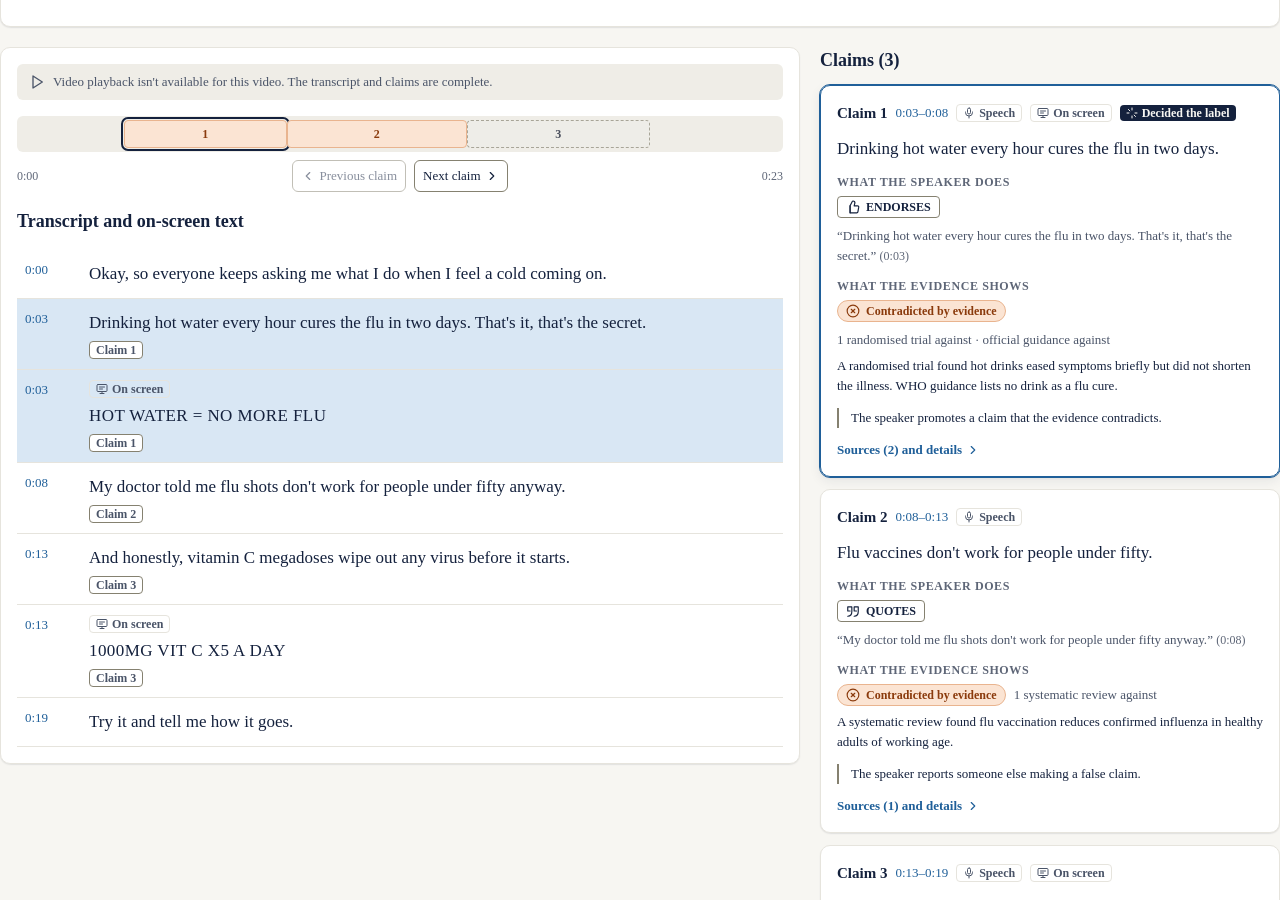
Test: ClaimDrawer › opens on the sources that match the verdict and can switch
The width and height of the screenshot is (1280, 900).
(page scrolled)
Click the button "Sources (2) and details" at (909, 450), box top-left (837, 440), bottom-right (980, 460)
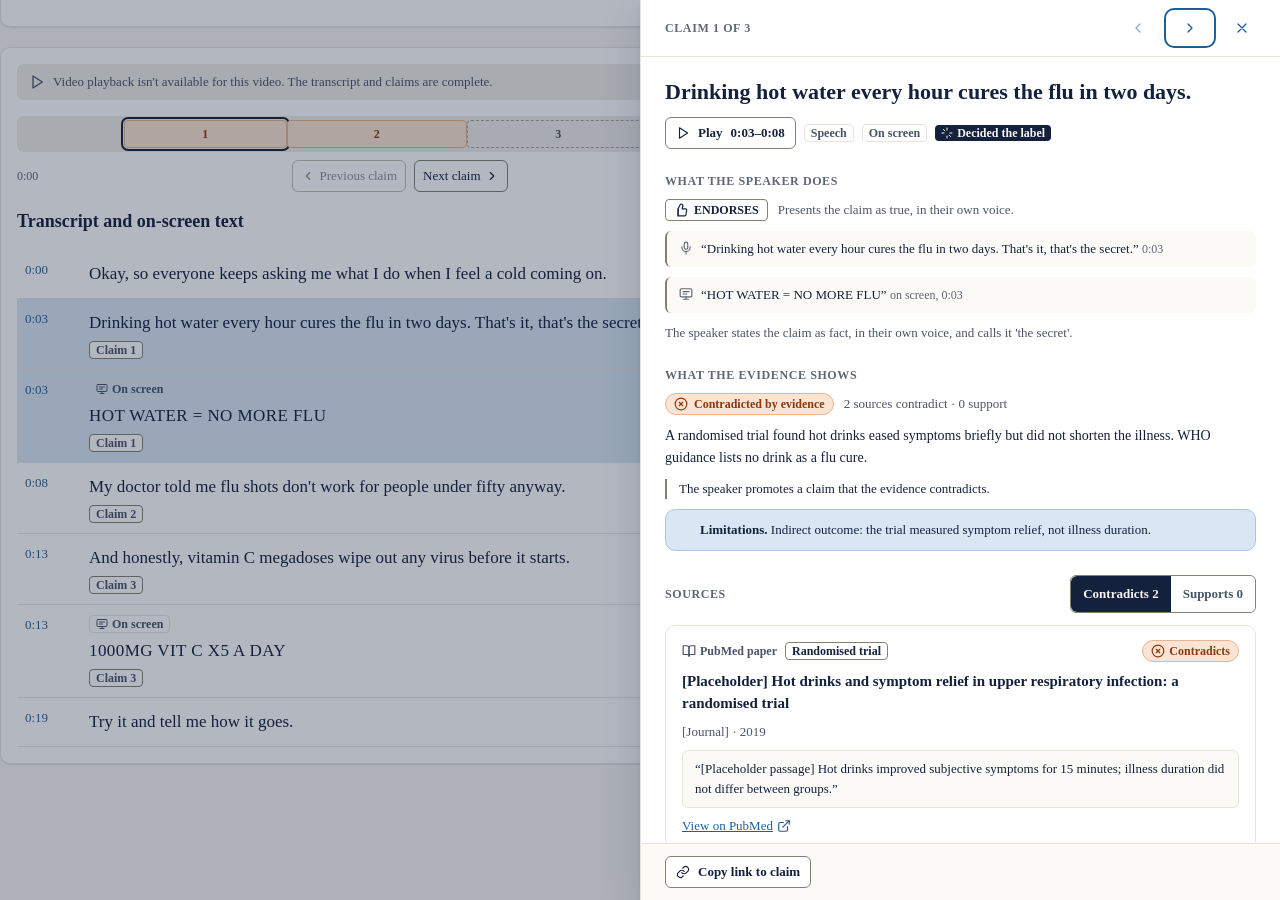
Click the button "Supports 0" at (1213, 594), box top-left (1171, 576), bottom-right (1255, 612)
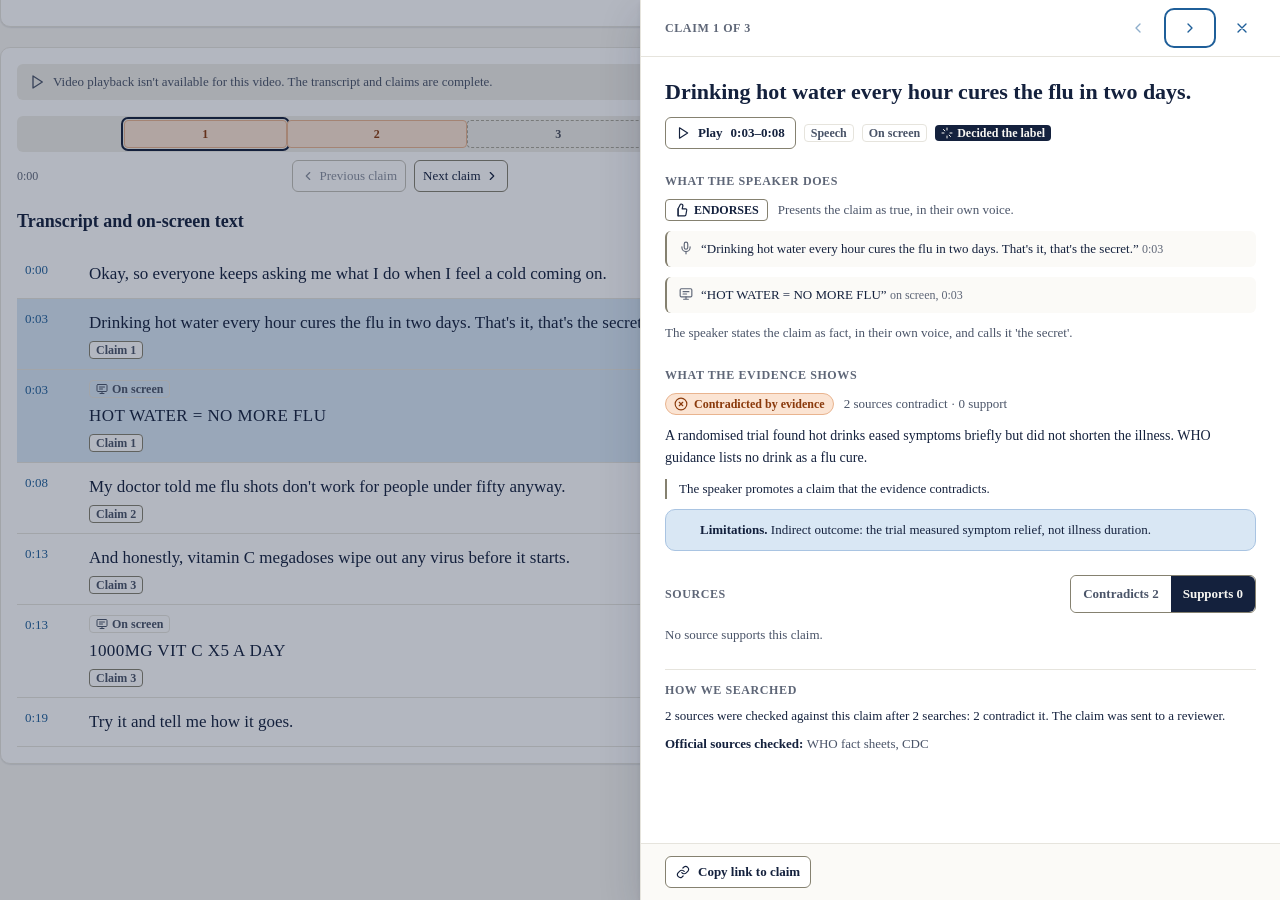
Check: the text "No source supports this claim." is shown, box top-left (665, 627), bottom-right (823, 642)
